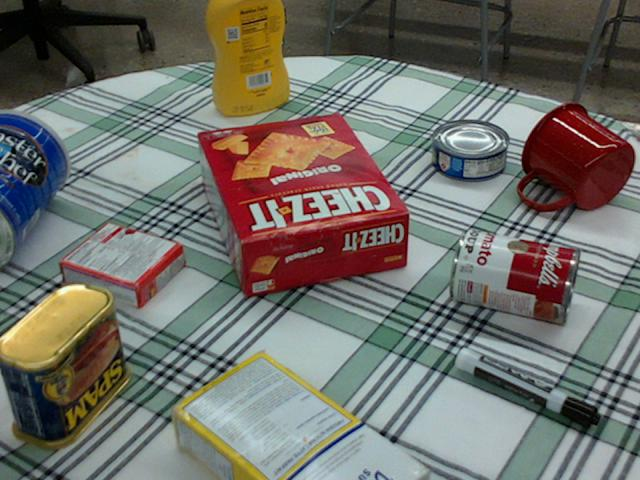cracker_box: (197, 112, 405, 294)
gelatin_box: (60, 220, 184, 309)
large_marker: (456, 347, 600, 430)
master_chef_can: (0, 110, 67, 270)
mug: (519, 102, 633, 210)
mustard_bottle: (206, 0, 288, 115)
potted_meat_can: (0, 281, 130, 447)
sugar_box: (164, 354, 427, 479)
tomato_soup_can: (448, 227, 579, 324)
tuna_fish_can: (432, 119, 509, 180)
